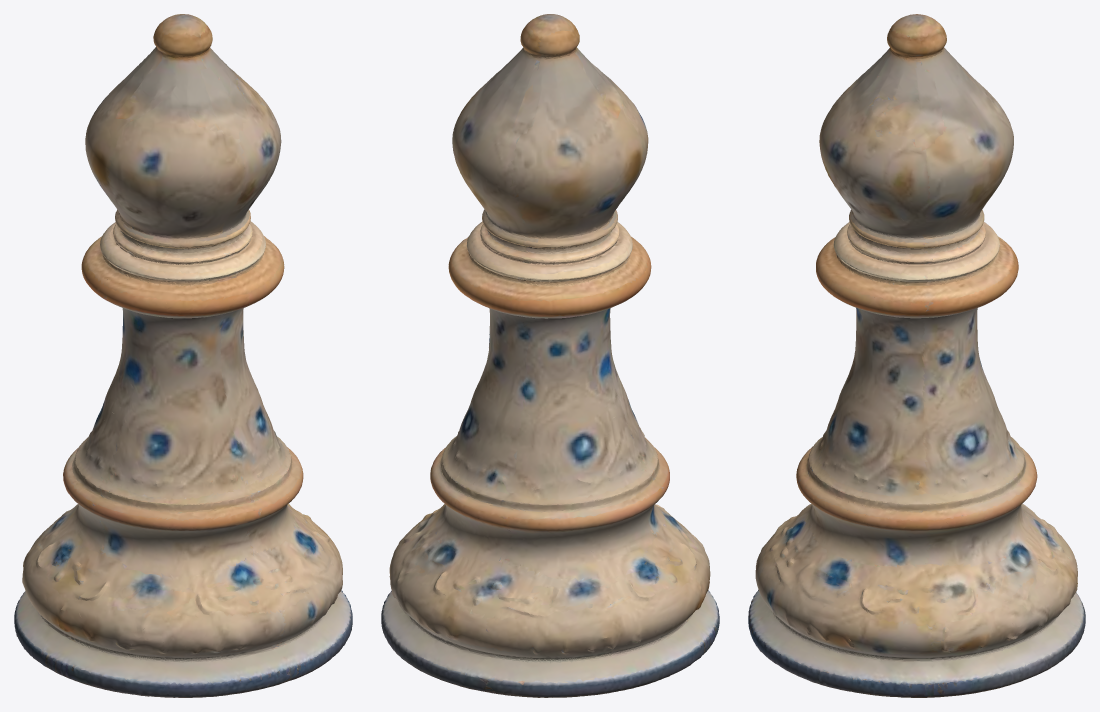
File: pawn_white.glb
The picture shows the model from 3 angles, left to right: view 1: azimuth 30°, elevation 25°; view 2: azimuth 150°, elevation 25°; view 3: azimuth 270°, elevation 25°; orthographic projection.
Visible parts, largest first — view 1: model; view 2: model; view 3: model.
Part boxes in pixels (box(x1,y1,x2,y2)): model: box(14, 14, 352, 697); model: box(381, 14, 719, 697); model: box(748, 14, 1085, 697).
Size of the model in its own units: 0.9517 by 1.9 by 0.9497.
1 material, 1 textured.
